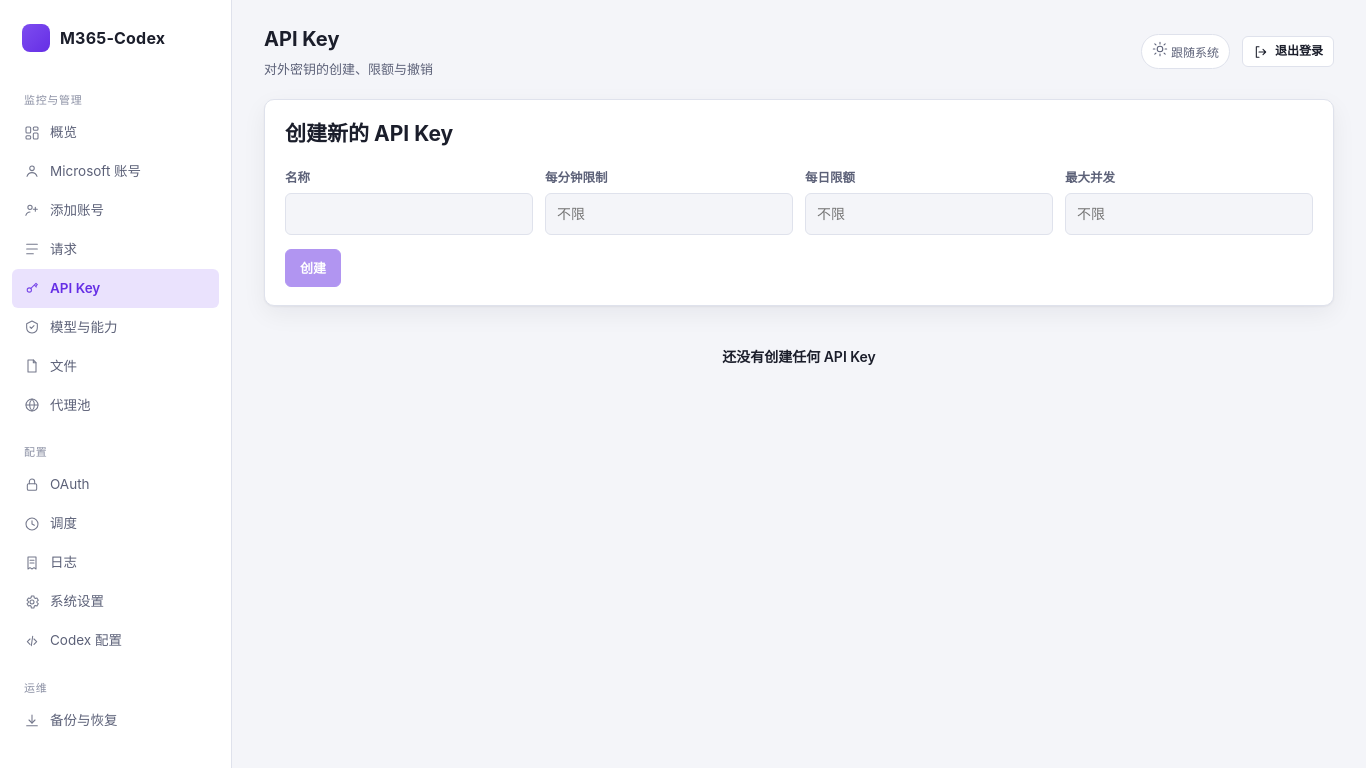
Scenario: API Key 明文只显示一次 › 创建后弹窗展示明文，关闭前必须勾选「我已保存」，关闭后列表只剩掩码
In the field labelled "名称": point(409, 214) 285,194 -> 533,235, type "测试密钥"
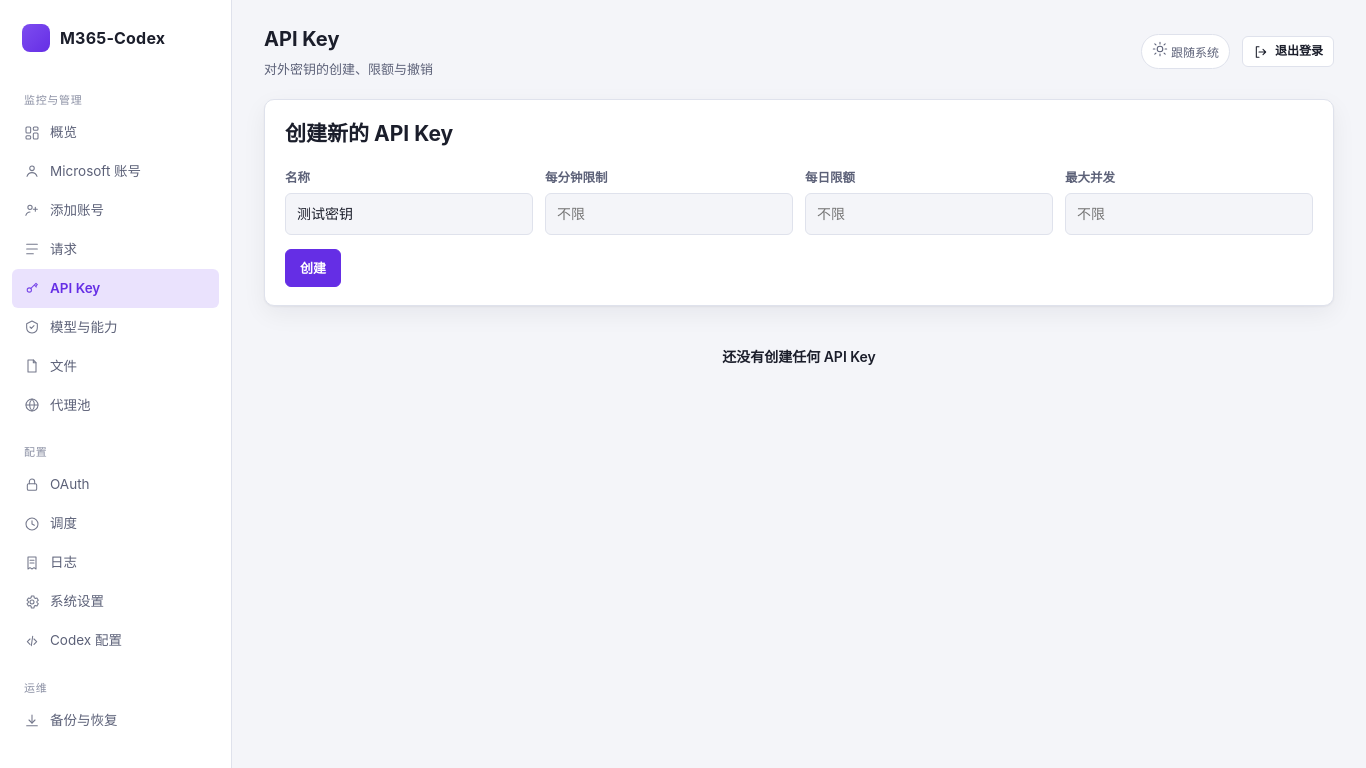
Click the button "创建": point(313, 268) 285,249 -> 341,287
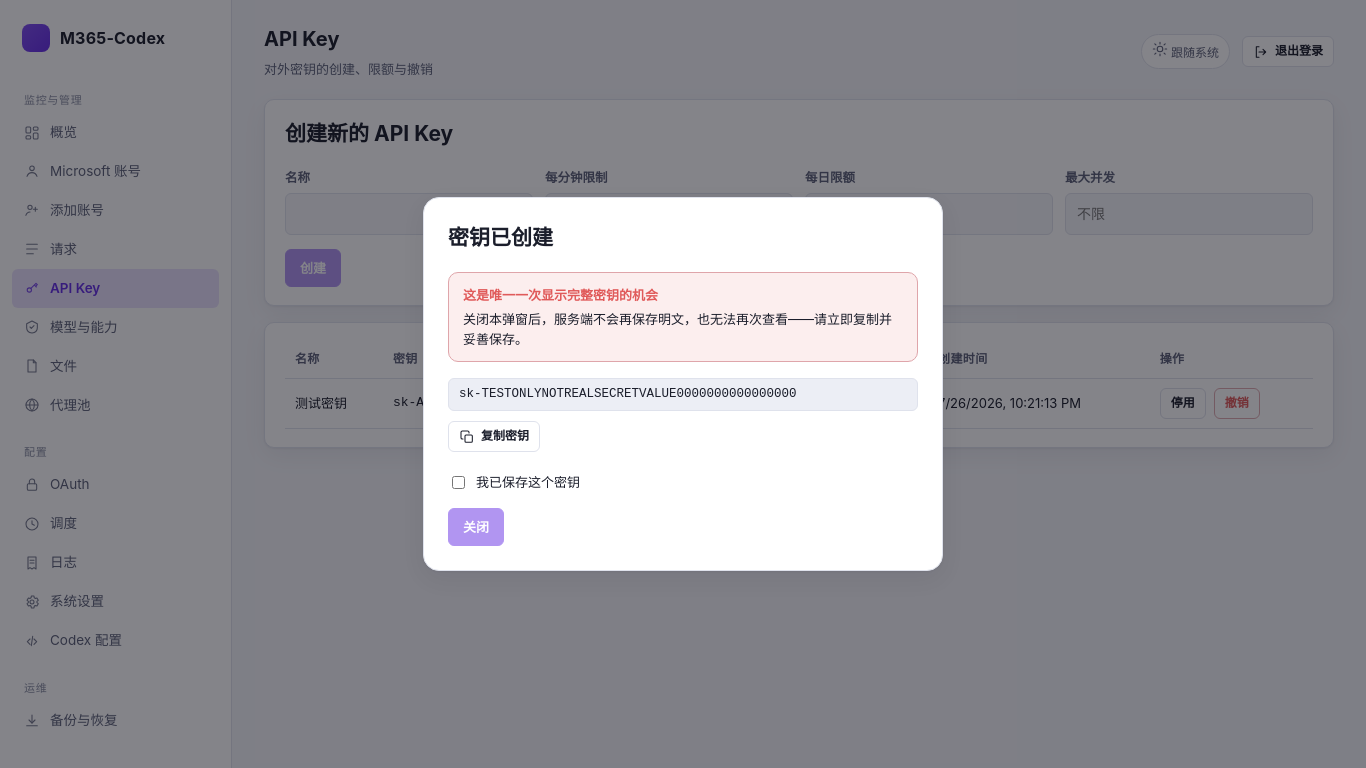
Expected: the text "sk-TESTONLYNOTREALSECRETVALUE0000000000000000" is shown, 459,385 -> 797,404
Expected: the text "这是唯一一次显示完整密钥的机会" is shown, 463,287 -> 658,303
Expected: the button "关闭" is disabled, 448,508 -> 504,546
Click the checkbox labelled "我已保存这个密钥": point(458, 482) 452,476 -> 465,489
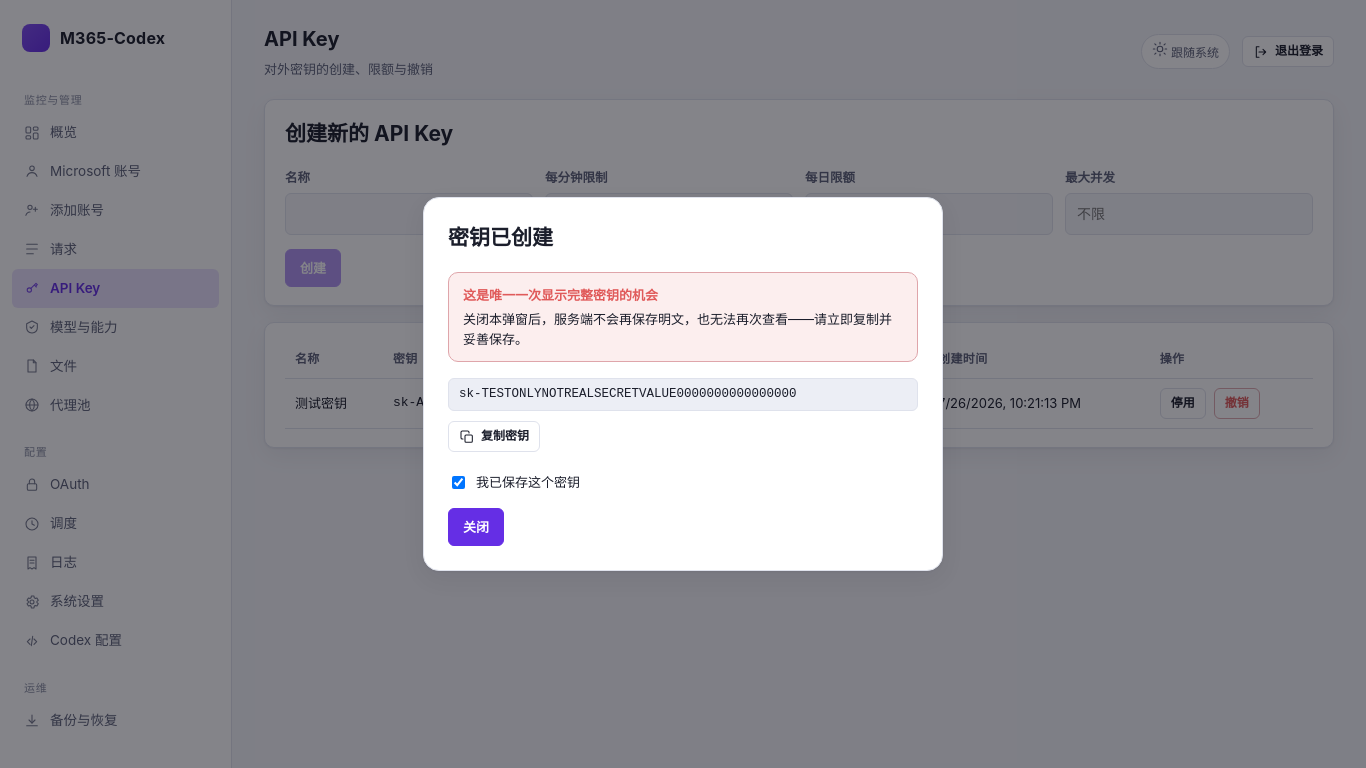
Expected: the button "关闭" is enabled
Click the button "关闭": point(476, 527) 448,508 -> 504,546
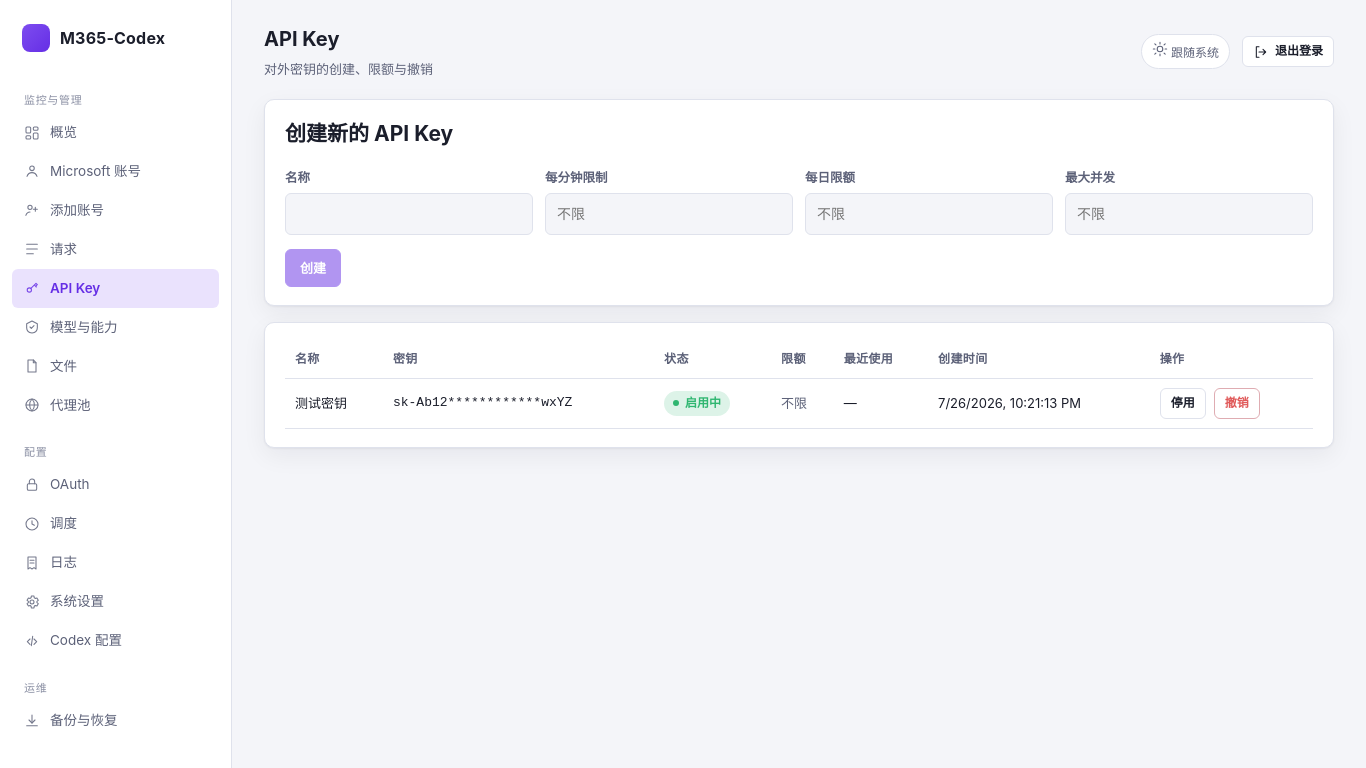
Expected: the text "sk-Ab12************wxYZ" is shown, 383,378 -> 654,428
Expected: the text "sk-TESTONLYNOTREALSECRETVALUE0000000000000000" is gone
